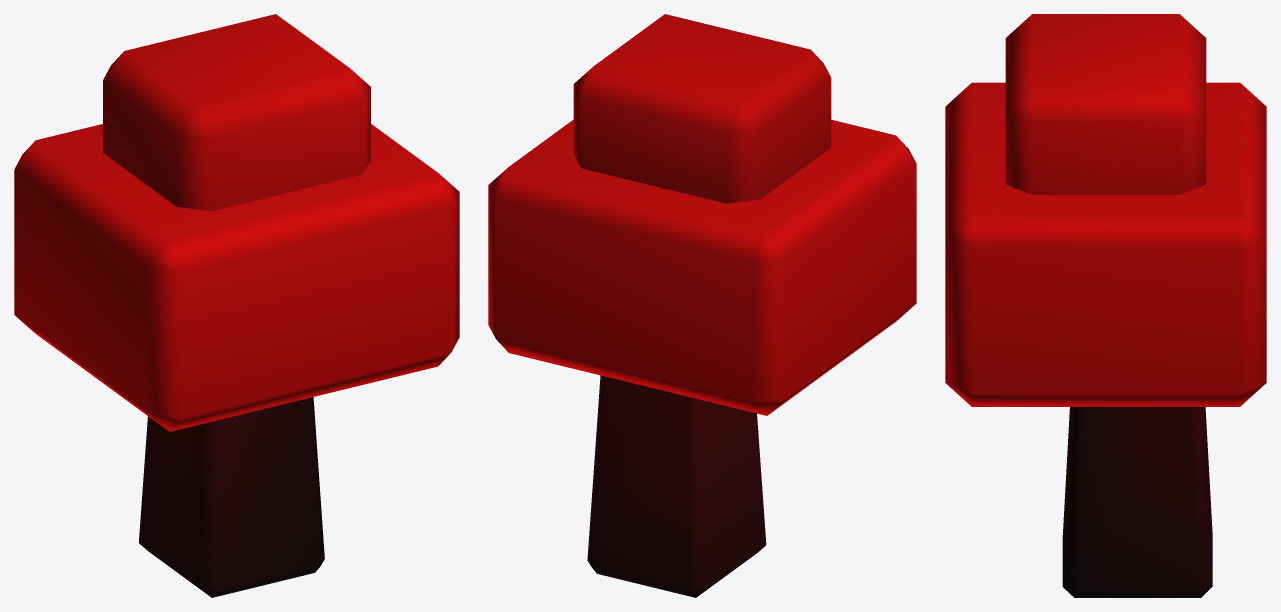
The model's file is CastleExterior_Tree_05.fbx.
3 views of the same model, side by side, from view 1: azimuth 30°, elevation 25°; view 2: azimuth 150°, elevation 25°; view 3: azimuth 270°, elevation 25° (orthographic). The views are drawn at different scales.
Visible parts, largest first — view 1: CastleExterior_Tree_05; view 2: CastleExterior_Tree_05; view 3: CastleExterior_Tree_05.
Part boxes in pixels (box(x1,y1,x2,y2)): CastleExterior_Tree_05: box(14, 14, 459, 597); CastleExterior_Tree_05: box(488, 14, 916, 597); CastleExterior_Tree_05: box(945, 14, 1266, 597).
Size of the model in its own units: 99.17 by 157 by 88.74.
